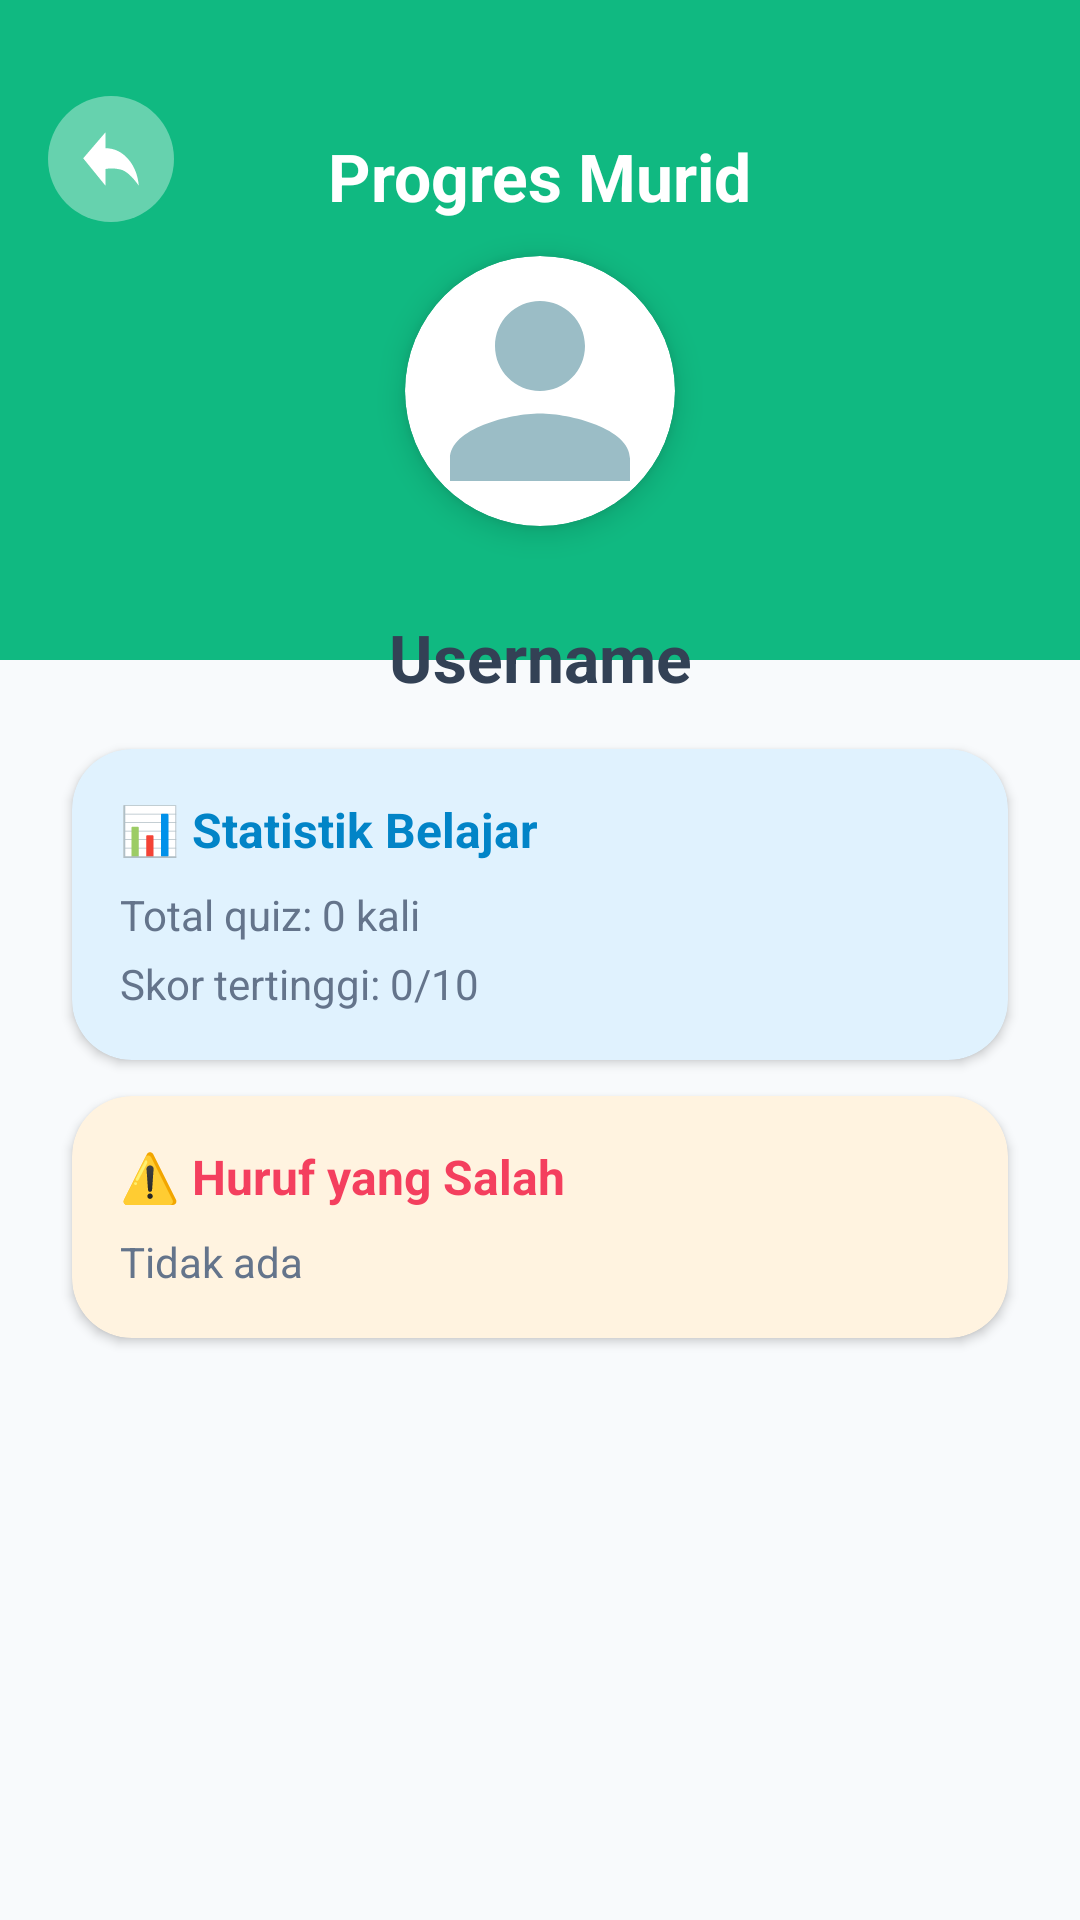

Point at icon controls on the screen. Image size 1080w x 1920h, points as point (x, y).
back: point (111, 159)
User Photo: point (540, 391)
